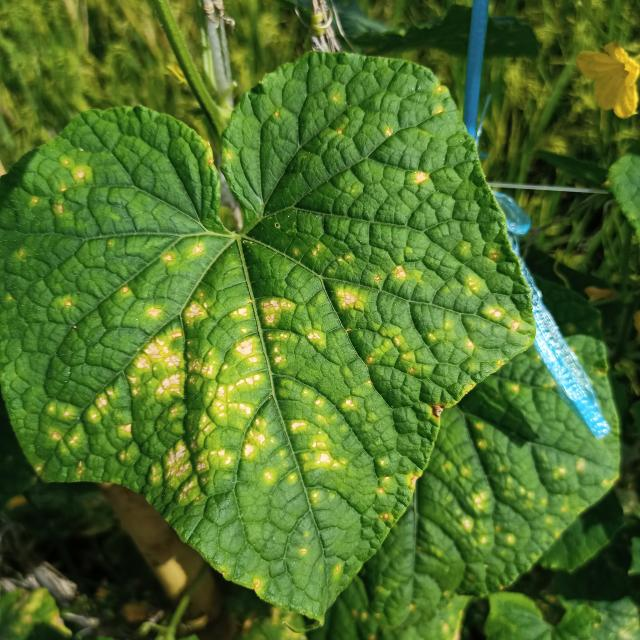disease_cucumber: (13, 92, 510, 548)
